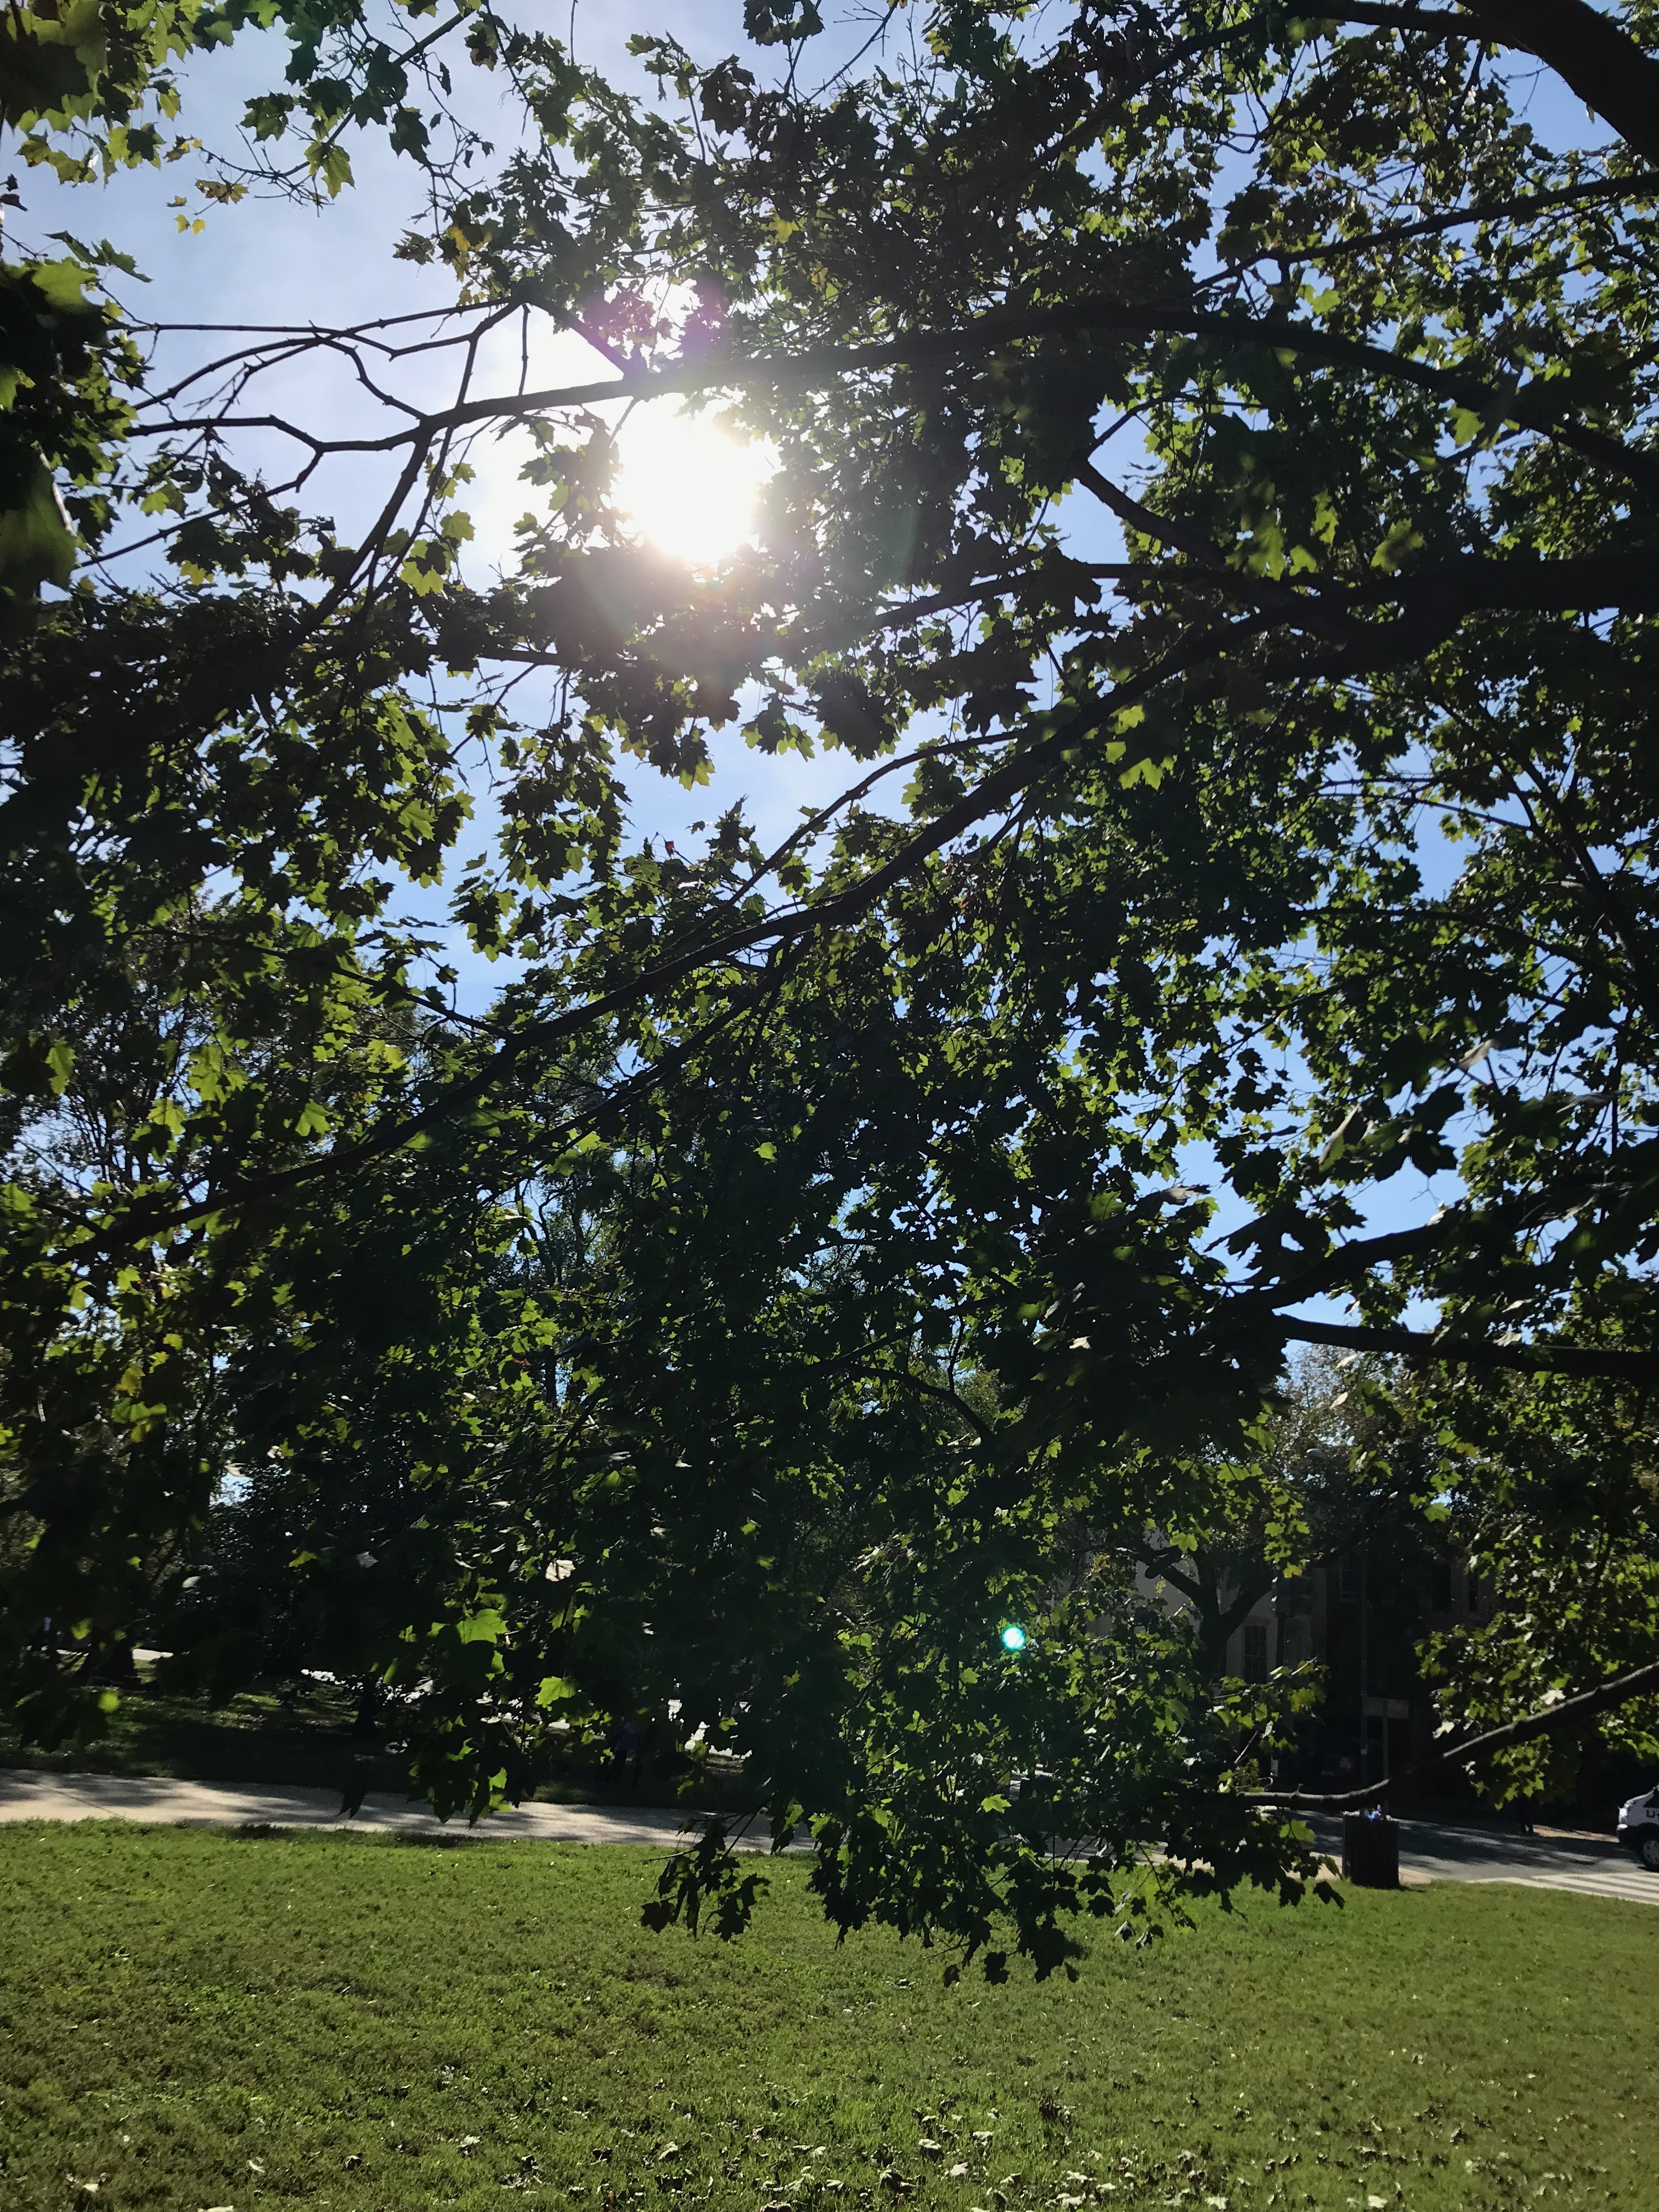flare: (1002, 1625, 1026, 1651)
